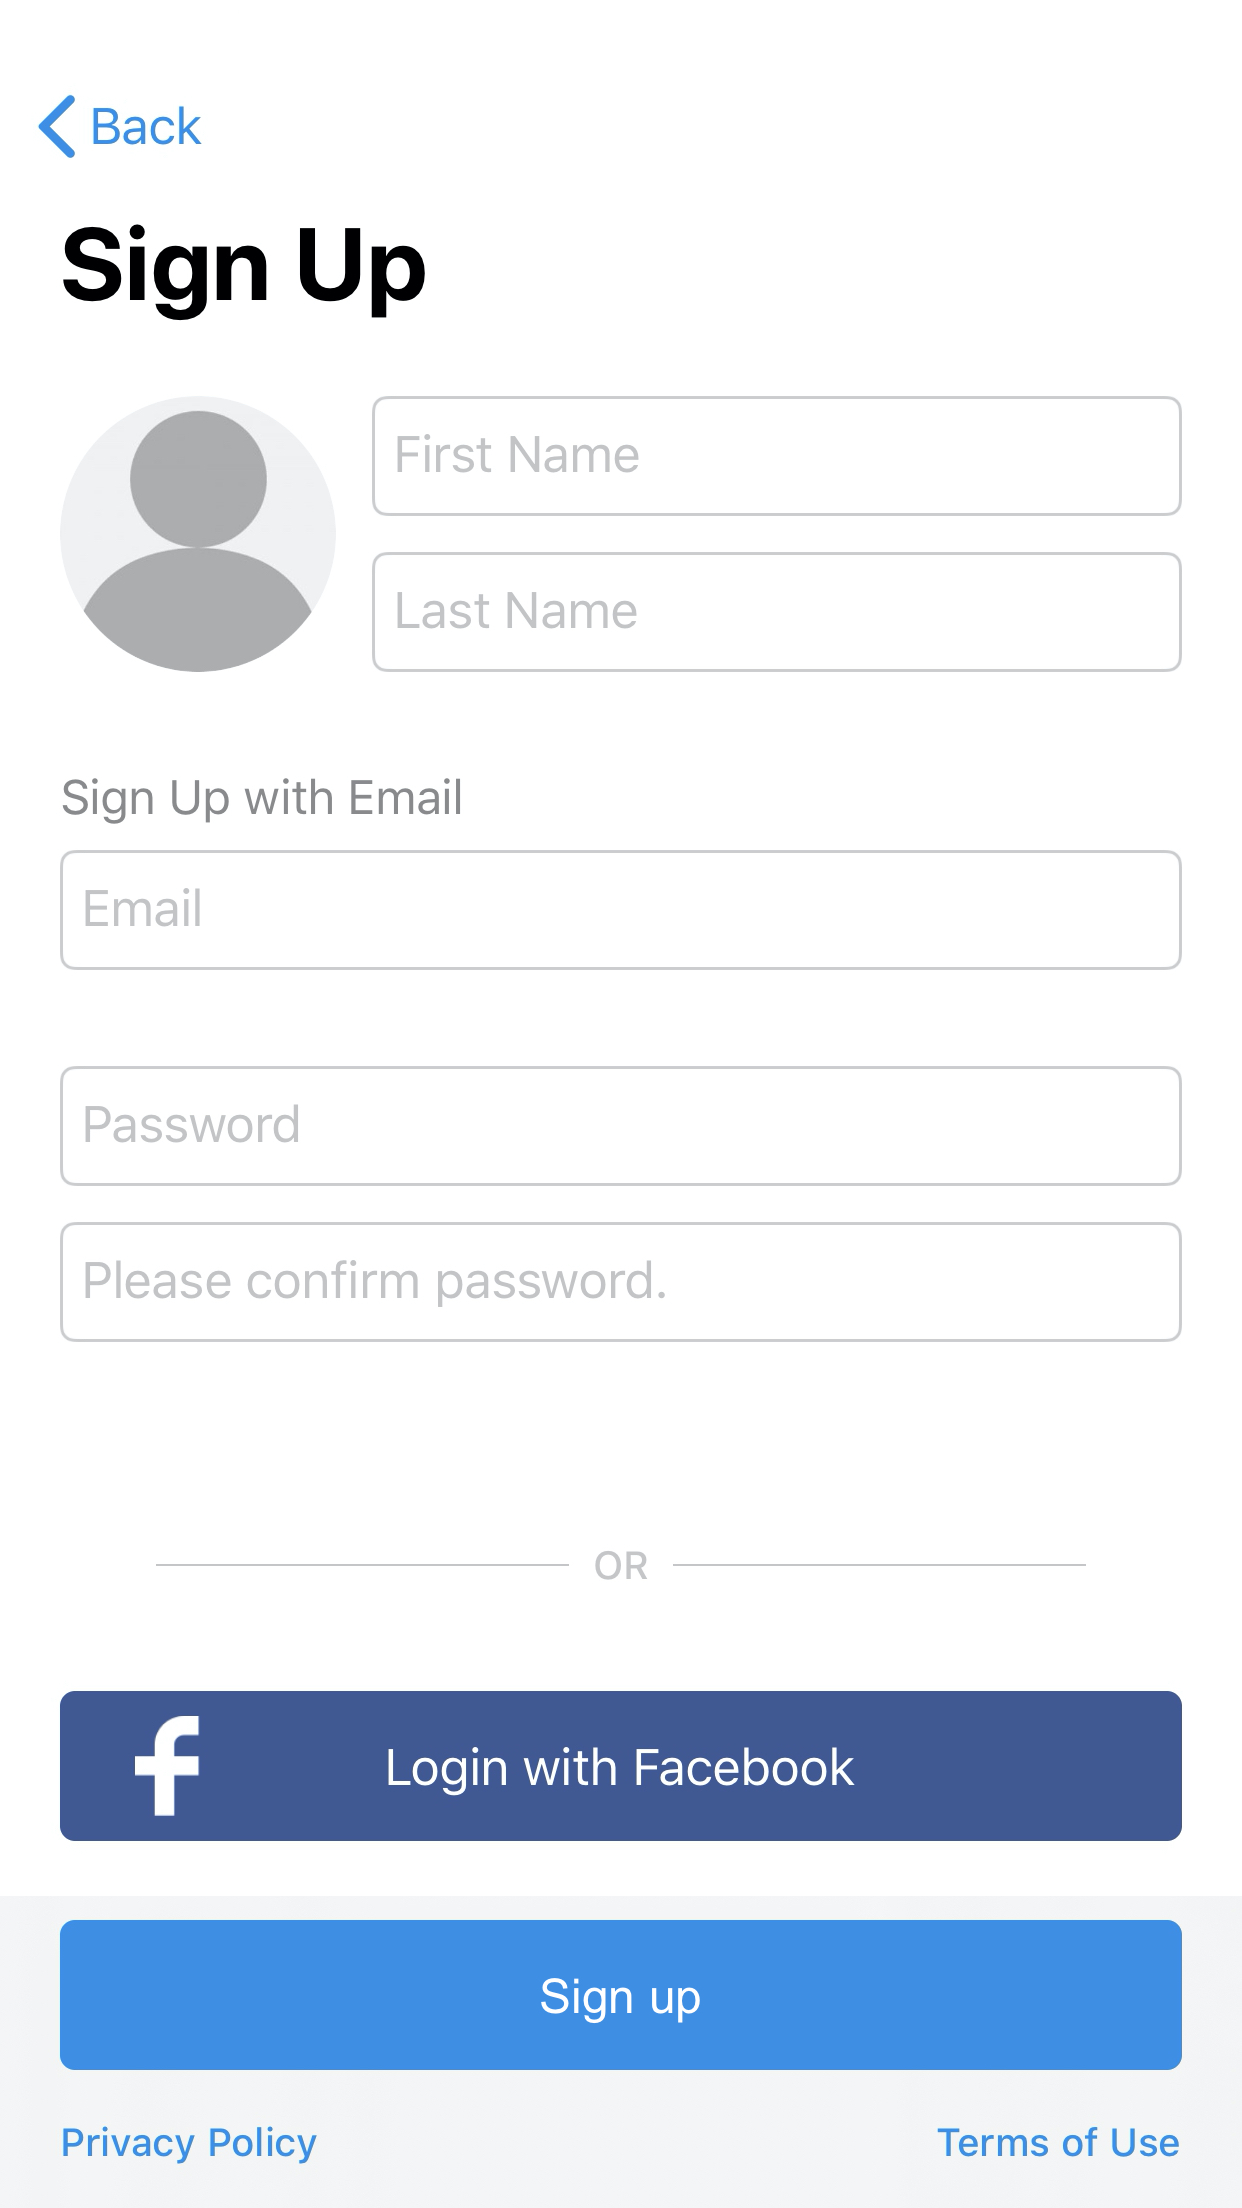EditText: (61, 1221, 1181, 1342), (61, 1066, 1181, 1186), (61, 851, 1181, 971), (372, 552, 1181, 673), (372, 396, 1181, 517)
Icon: (61, 397, 337, 673), (39, 96, 76, 159)
Text: (64, 224, 426, 320), (85, 1260, 666, 1307), (65, 778, 463, 823), (64, 2125, 317, 2164), (397, 434, 638, 475), (397, 591, 637, 629), (85, 1104, 299, 1143), (937, 2128, 1178, 2156), (85, 889, 200, 927), (93, 106, 202, 146), (594, 1550, 648, 1580)
TextButton: (61, 1918, 1181, 2070), (61, 1691, 1181, 1841)
